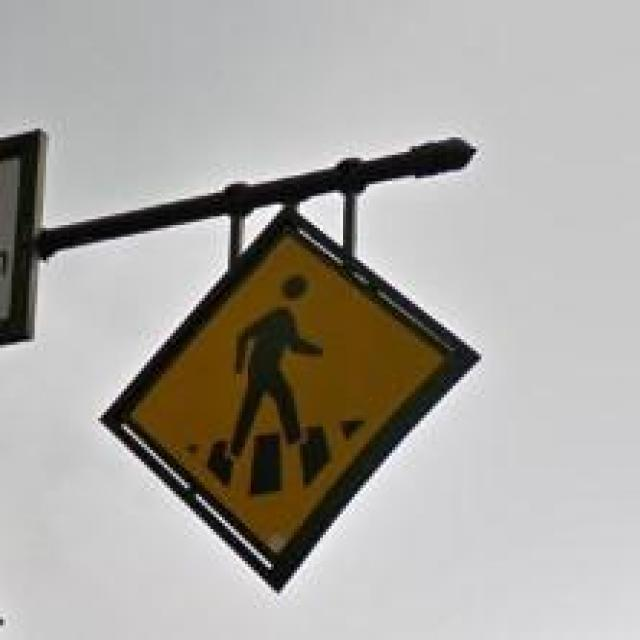traffic sign: (133, 231, 444, 541)
